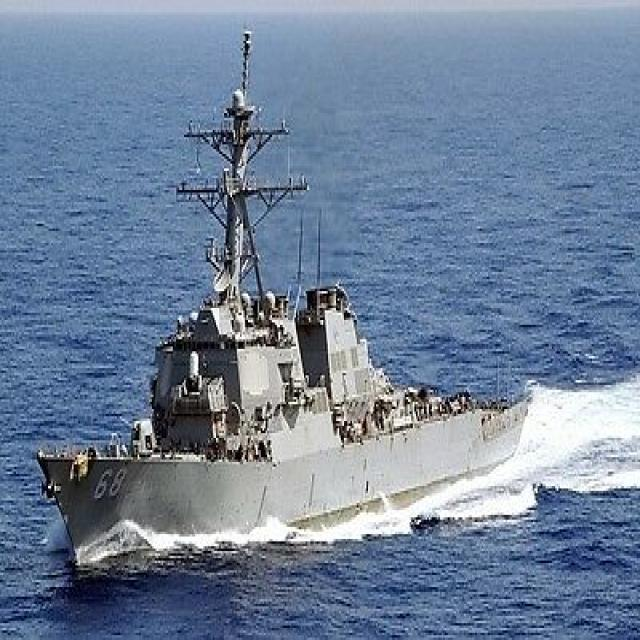navalvessels: (36, 42, 549, 580)
